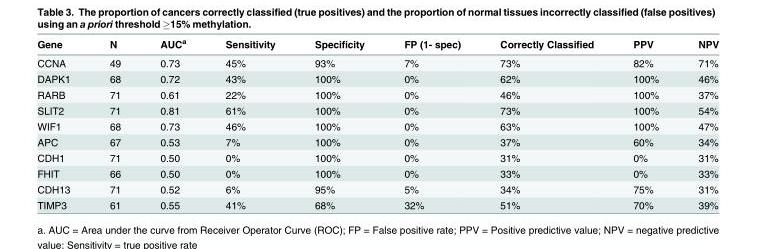table: (36, 36, 718, 210)
table column: (479, 36, 612, 210), (383, 36, 479, 210), (205, 36, 294, 210), (294, 36, 383, 210), (139, 36, 205, 210), (612, 36, 677, 210), (36, 36, 89, 210), (89, 36, 139, 210), (677, 36, 718, 210)
table column header: (36, 36, 718, 53)
table row: (36, 36, 718, 53), (36, 53, 718, 70), (36, 70, 718, 86), (36, 86, 718, 102), (36, 117, 718, 133), (36, 133, 718, 149), (36, 149, 718, 165), (36, 165, 718, 181), (36, 102, 718, 117), (36, 181, 718, 196), (36, 196, 718, 210)
